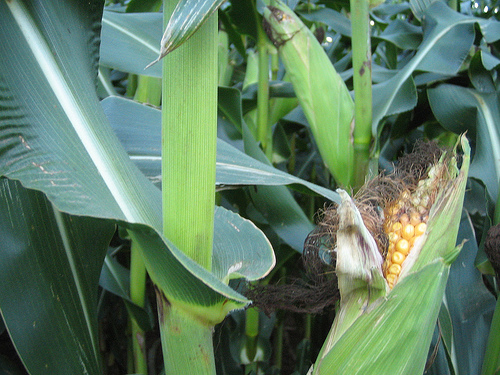corn: (305, 130, 470, 374)
